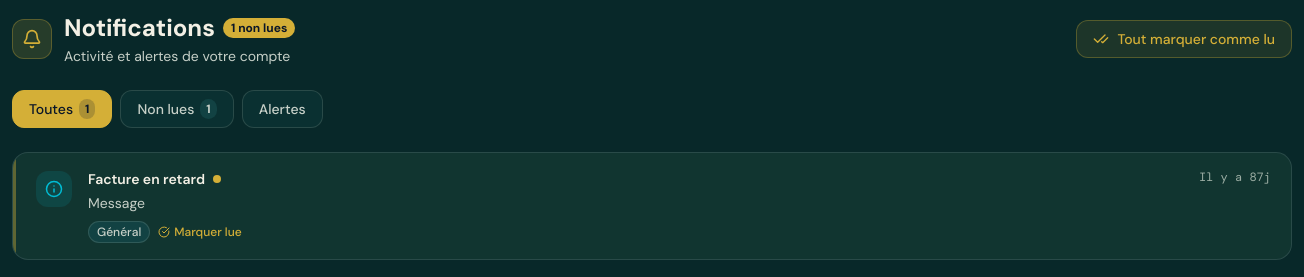
NotificationsClient — marquer comme lue › marque une notification comme lue au clic et retire son badge non-lue
This screenshot has width=1304, height=277.
expect the text "1 non lues" is shown: met, box [223,18,295,38]
Step 1. Click the button "Marquer lue" → (200, 232), box [158,224,242,240]
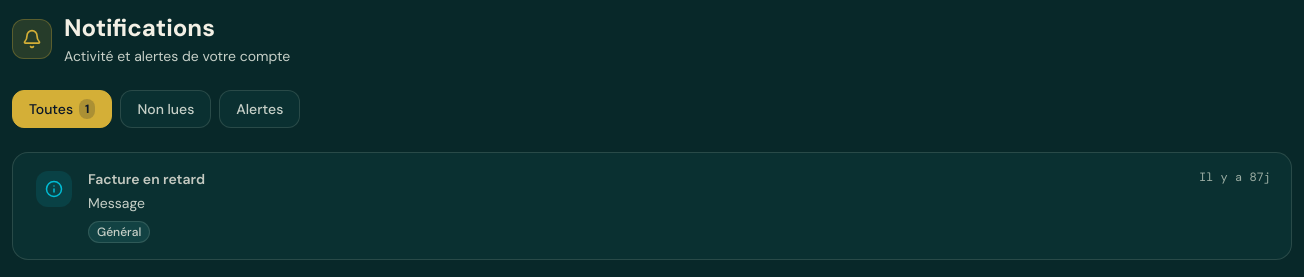
expect the button "Marquer lue" is gone: met
